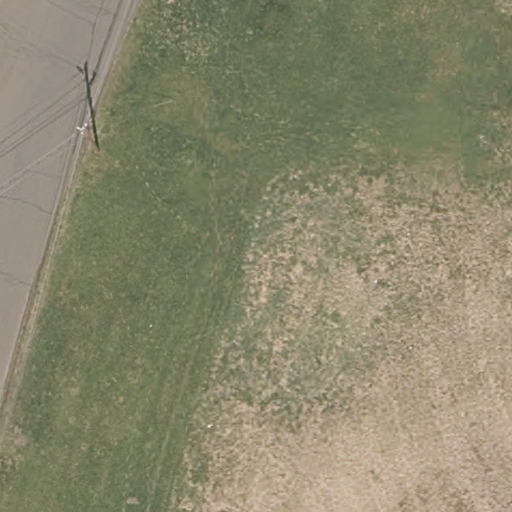DT: (71, 121, 99, 150)
